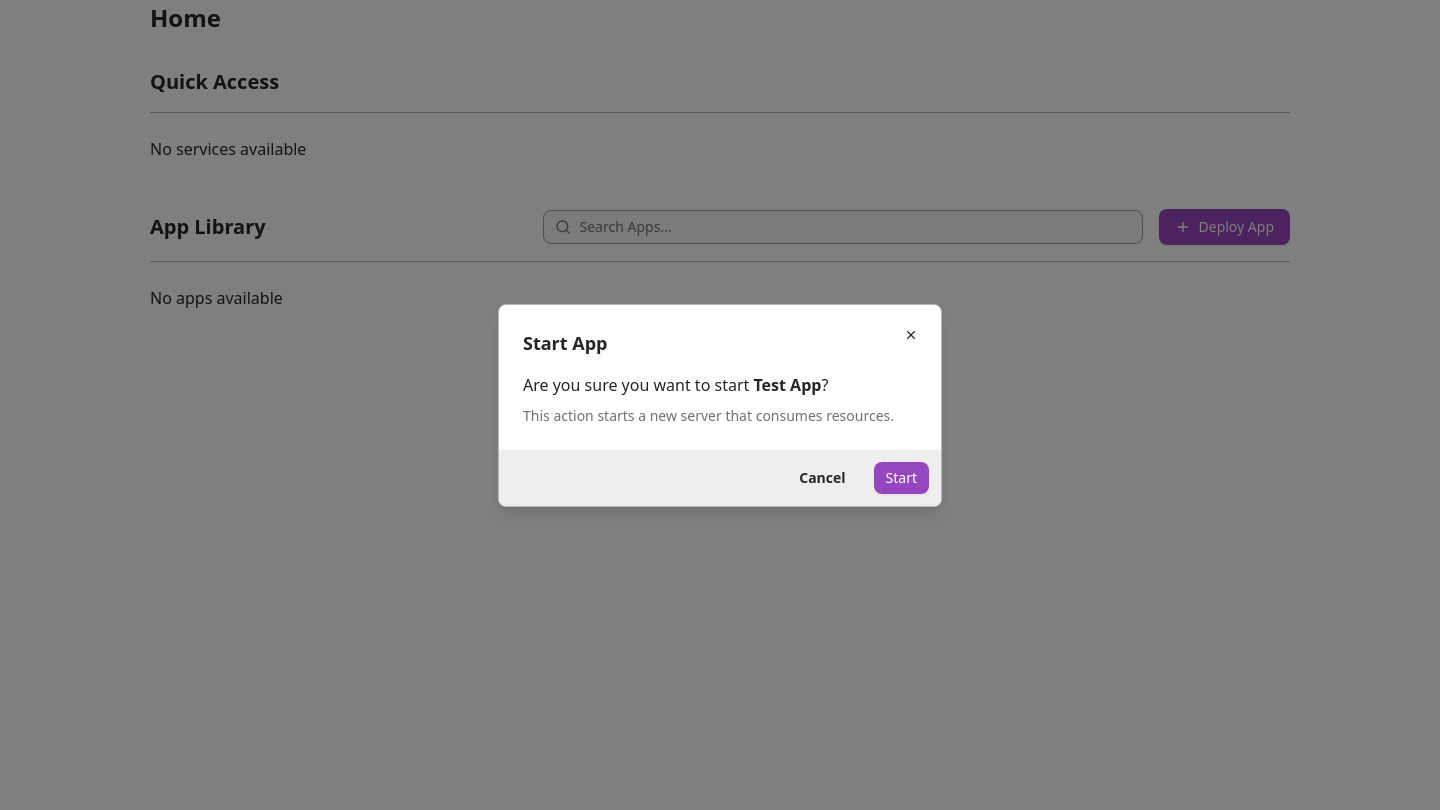
Test: Home › should show 403 error snackbar when trying to start a shared app
Expected: the dialog with test id "StartModal" is shown, x1=498 y1=304 x2=942 y2=506
Click the button with id "start-btn": (901, 478) x1=874 y1=462 x2=929 y2=494
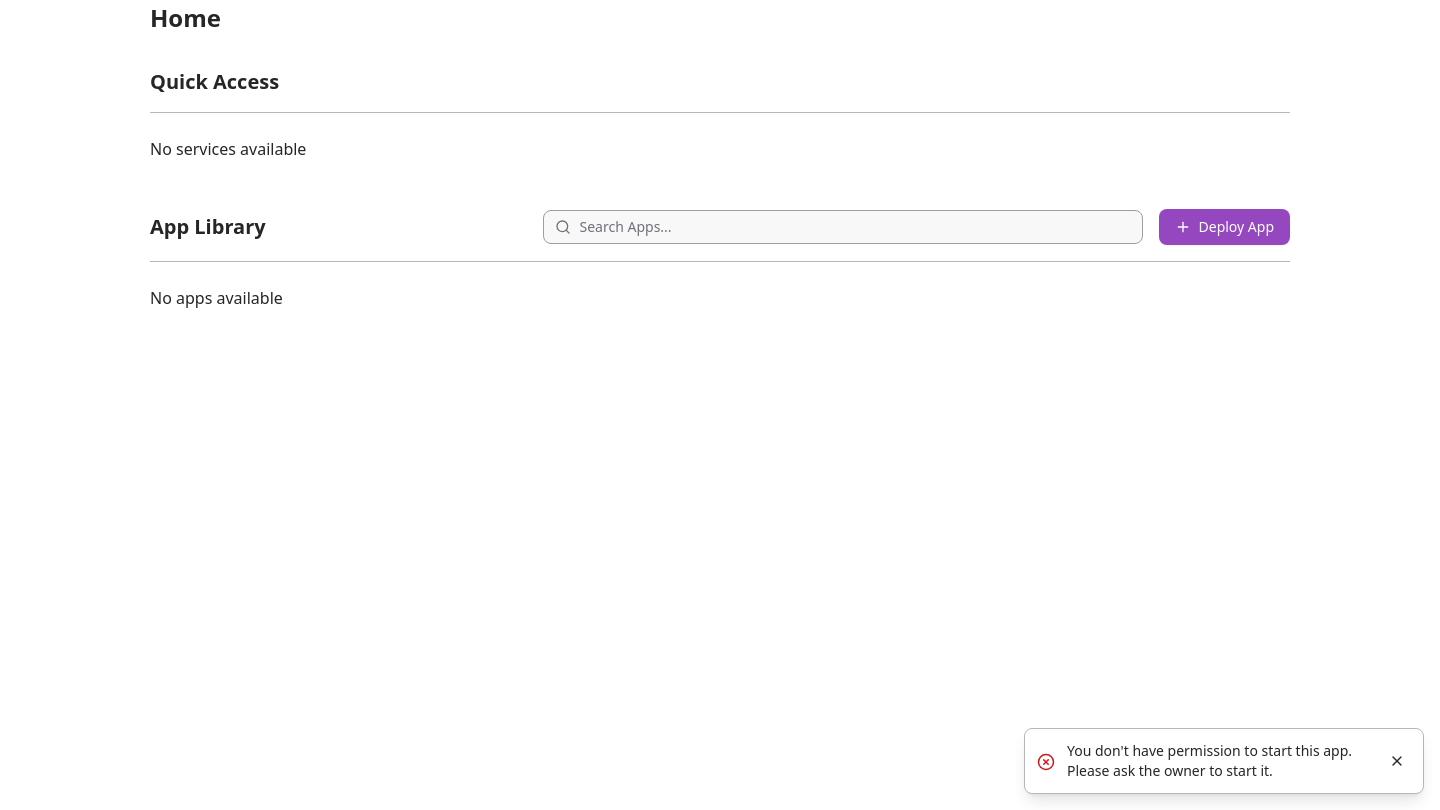
Expected: the heading "You don't have permission to start this app. Please ask the owner to start it." is shown, x1=1067 y1=741 x2=1371 y2=781
